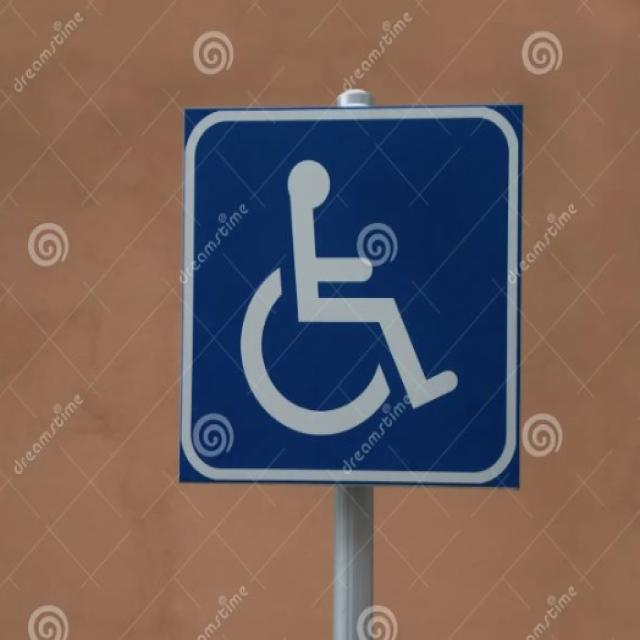symbol_of_access: (176, 98, 524, 494)
